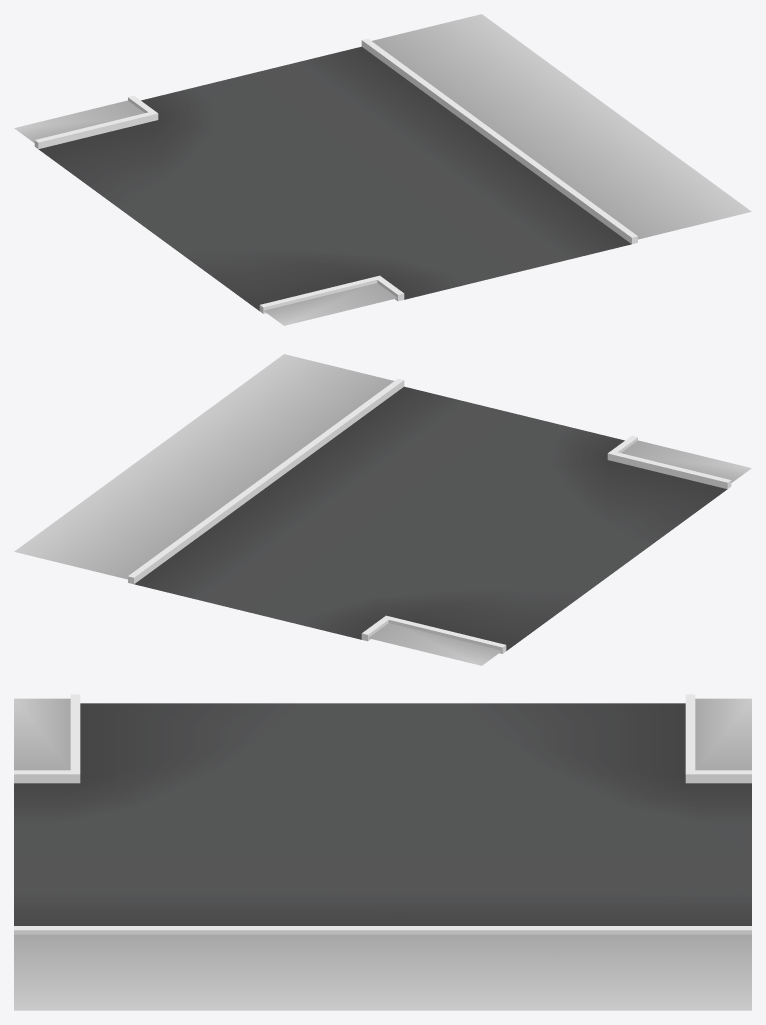
The model's file is road_019.glb.
The picture shows the model from 3 angles, top to bottom: view 1: azimuth 30°, elevation 25°; view 2: azimuth 150°, elevation 25°; view 3: azimuth 270°, elevation 25°; orthographic projection. The views are drawn at different scales.
Visible parts, largest first — view 1: road_019; view 2: road_019; view 3: road_019.
Part boxes in pixels (x1,y1,x2,y2): road_019: (14, 14, 751, 325); road_019: (14, 354, 751, 665); road_019: (14, 694, 751, 1010).
Bounding box in the file's own units: 15 × 0.2 × 15.
1 material, 1 textured.
